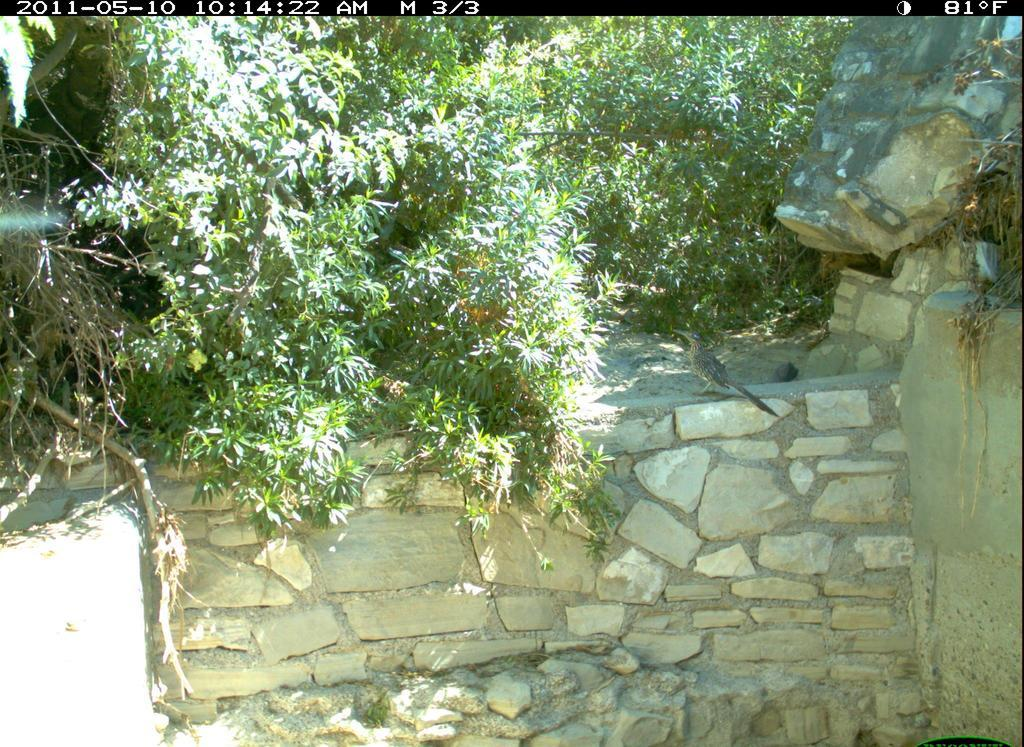bird: (673, 326, 785, 424)
